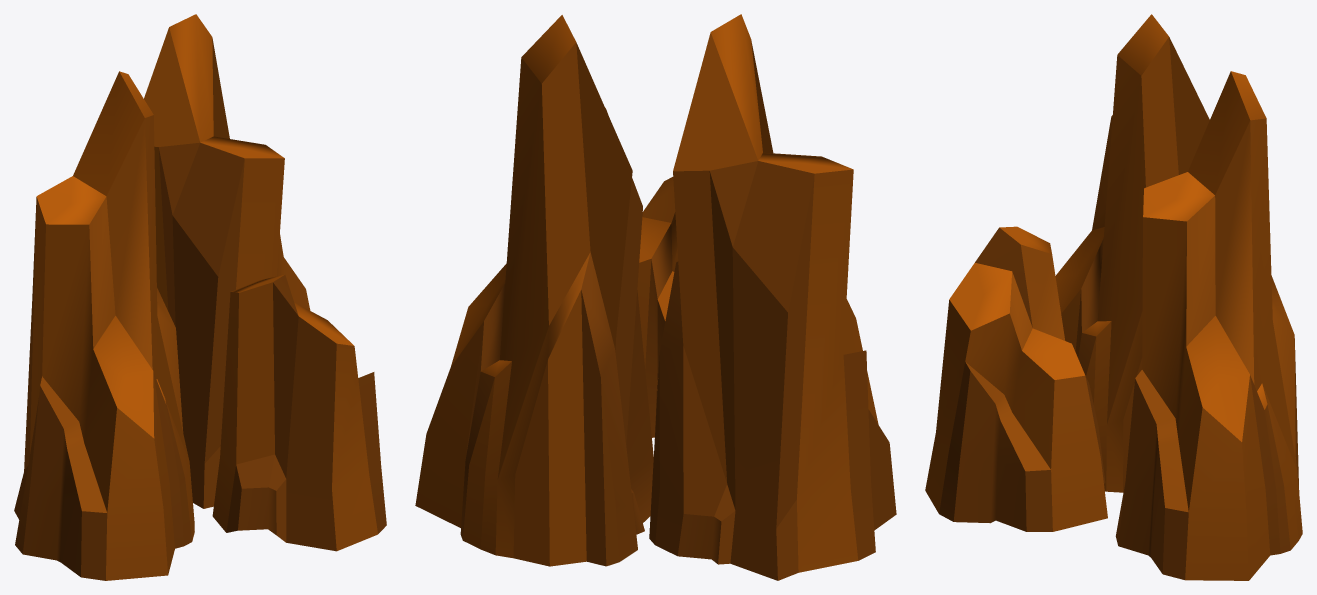
The model's file is Rock_5.fbx.
3 renders of one model, left to right at view 1: azimuth 30°, elevation 25°; view 2: azimuth 150°, elevation 25°; view 3: azimuth 270°, elevation 25°, orthographic. The views are drawn at different scales.
Visible parts, largest first — view 1: Rock_5; view 2: Rock_5; view 3: Rock_5.
Boxes of the visible parts, bbox=[...] form: Rock_5: bbox=[14, 14, 386, 580]; Rock_5: bbox=[415, 14, 896, 580]; Rock_5: bbox=[925, 14, 1302, 580].
Size of the model in its own units: 305 by 383 by 290.
Materials: 1 (1 with a texture image).
